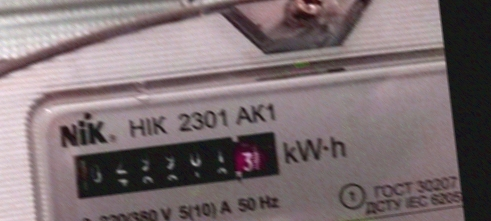0: (85, 159, 104, 182), (185, 140, 201, 167)
1: (210, 139, 225, 163)
2: (110, 153, 128, 174)
3: (238, 146, 253, 170)
9: (160, 145, 177, 169), (135, 149, 150, 172)
screen: (57, 117, 290, 208)
